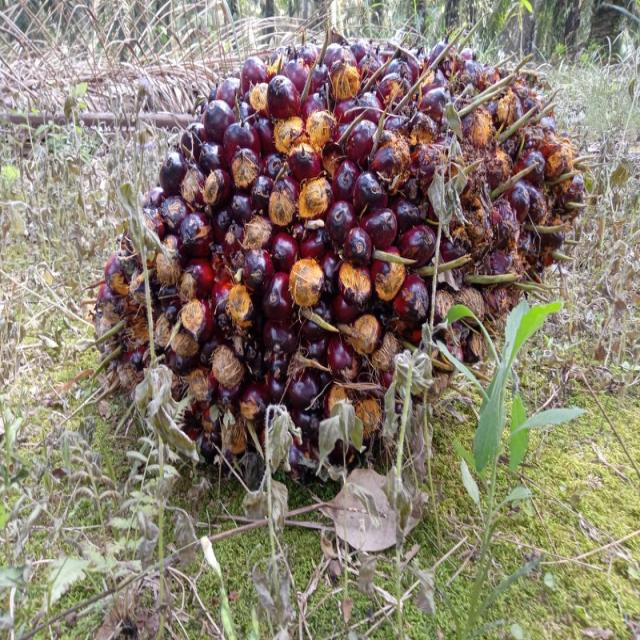fraksi 1: (97, 40, 586, 461)
